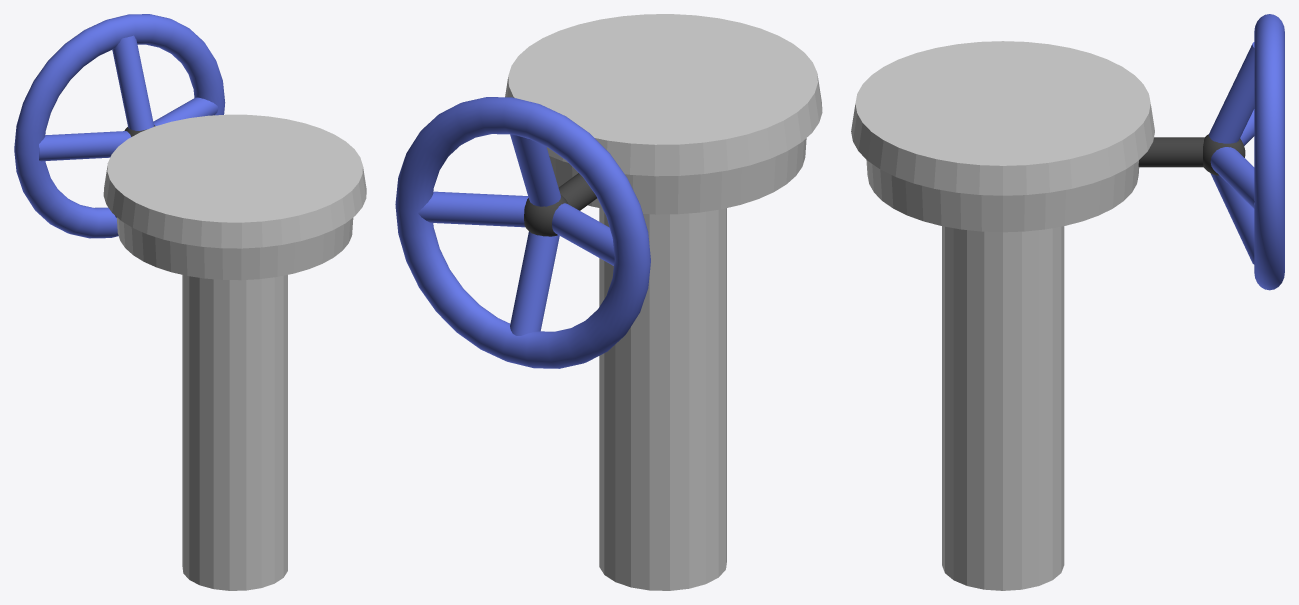
File: valve@opening.fbx
3 renders of one model, left to right at view 1: azimuth 30°, elevation 25°; view 2: azimuth 150°, elevation 25°; view 3: azimuth 270°, elevation 25°, orthographic. The views are drawn at different scales.
Parts seen in each view (by area): view 1: polySurface44, polySurface43; view 2: polySurface44, polySurface43; view 3: polySurface44, polySurface43.
Part boxes in pixels (x1,y1,x2,y2): polySurface44: (103,114,366,590); polySurface43: (14,14,225,238); polySurface44: (505,14,822,590); polySurface43: (395,97,650,368); polySurface44: (851,41,1154,590); polySurface43: (1138,14,1284,290).
Bounding box in the file's own units: 2.38 × 4.65 × 3.4.
